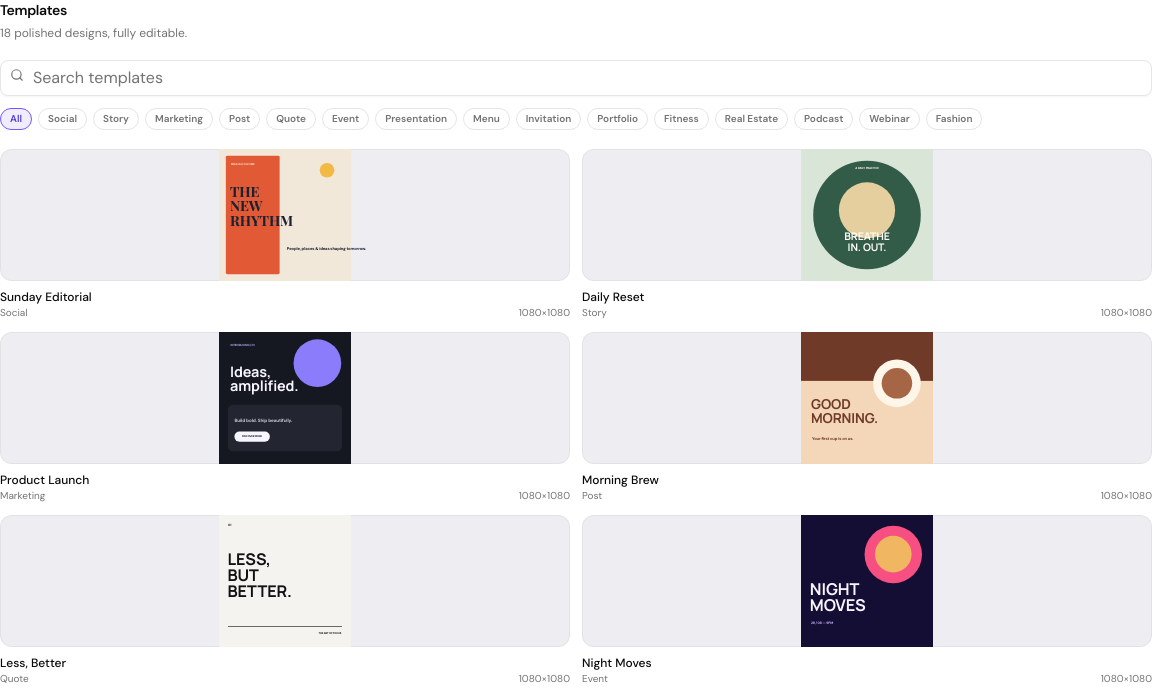
it: editor panels › renders faithful template previews and filters the expanded catalogue
Click the button "Presentation". click: (416, 118)
box: top-left (375, 108), bottom-right (457, 130)
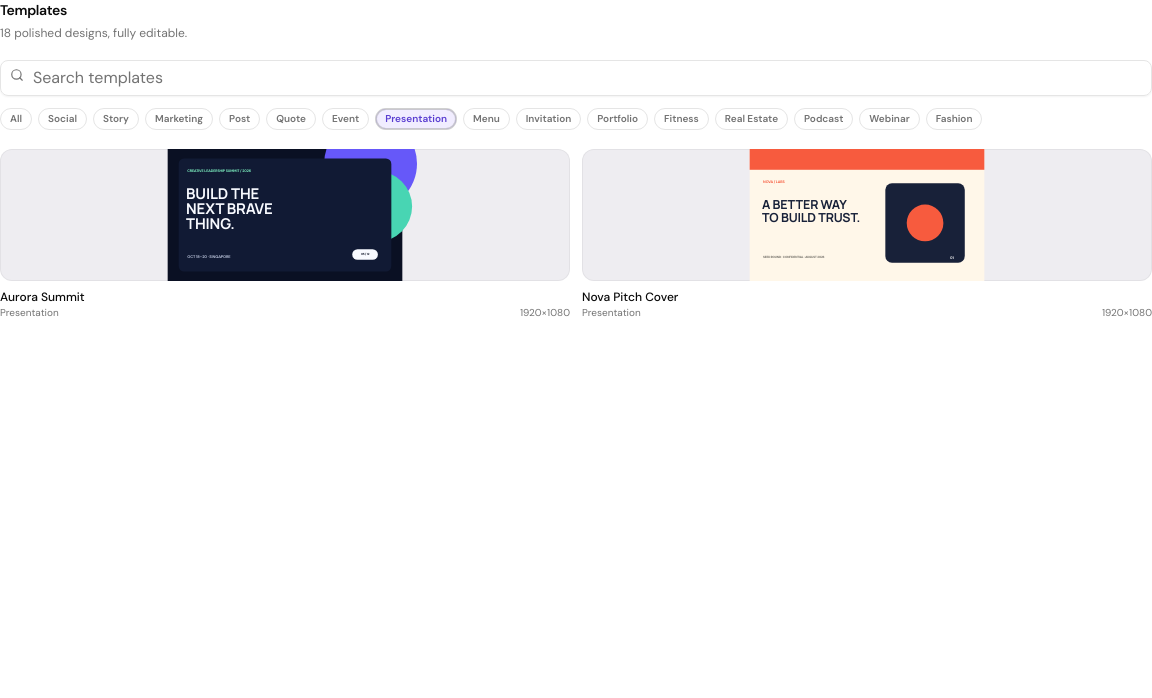
Now the text "Aurora Summit" is shown, box top-left (0, 288), bottom-right (85, 304)
Click the button "All". click: (16, 118)
box: top-left (0, 108), bottom-right (32, 130)
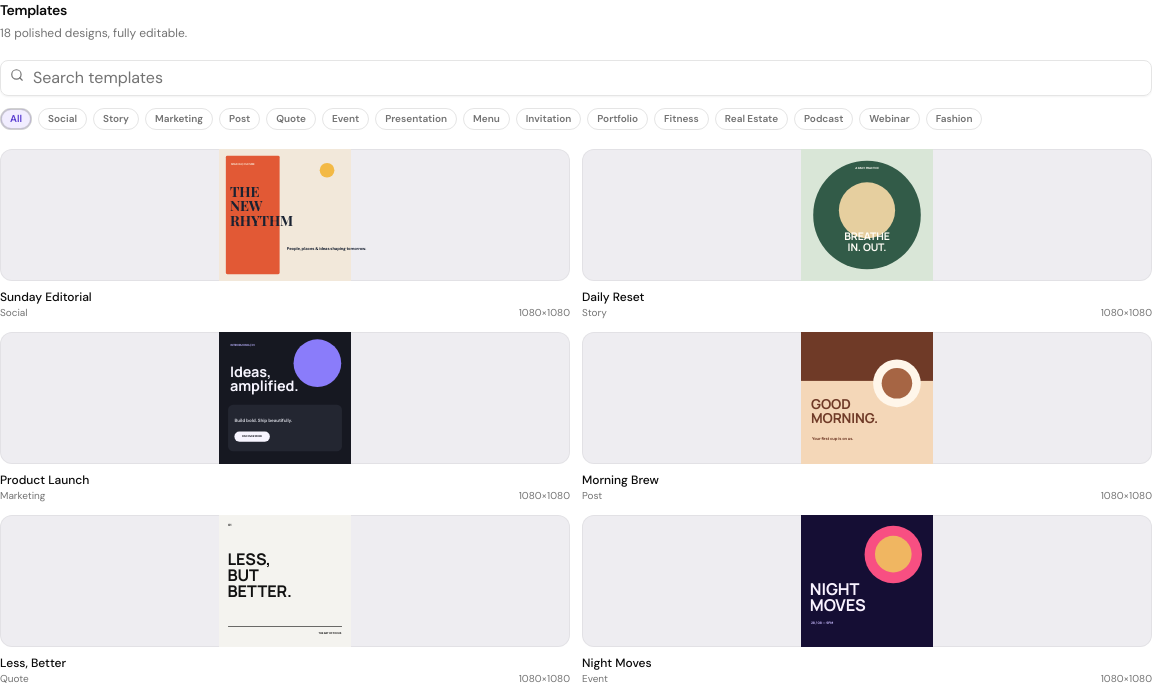
Type "vows" into the field labelled "Search templates". click: (576, 78)
box: top-left (0, 60), bottom-right (1151, 96)
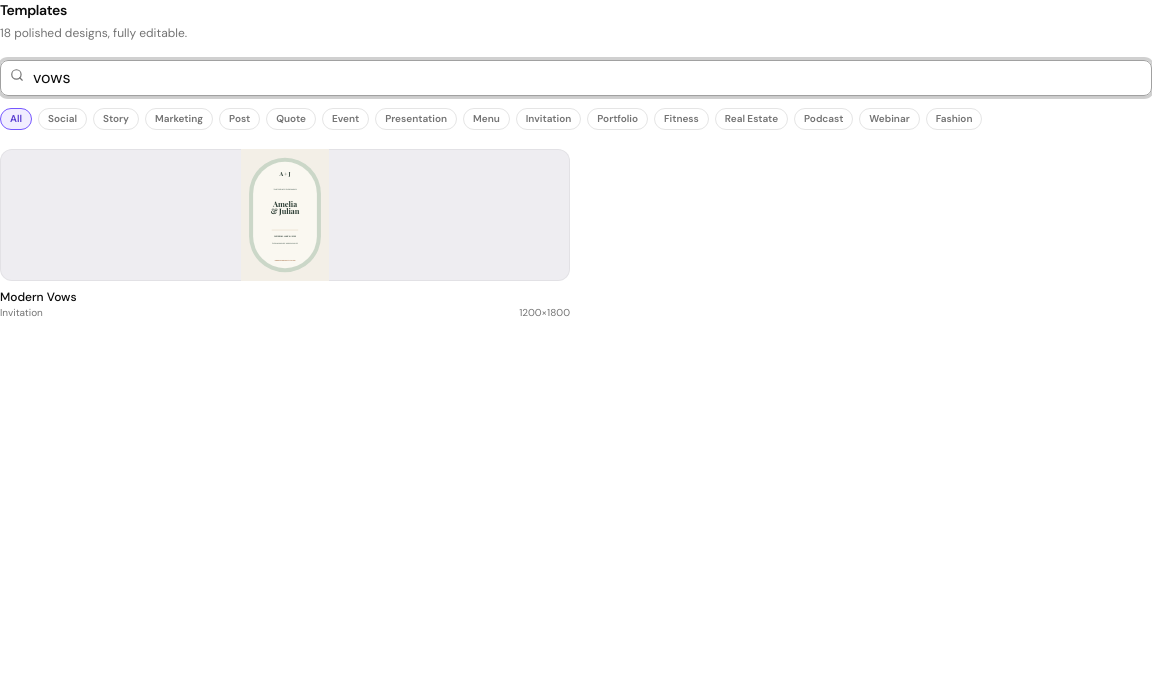
Expected: the button "Aurora Summit" is not shown
Now the text "Modern Vows" is shown, box top-left (0, 288), bottom-right (77, 304)
